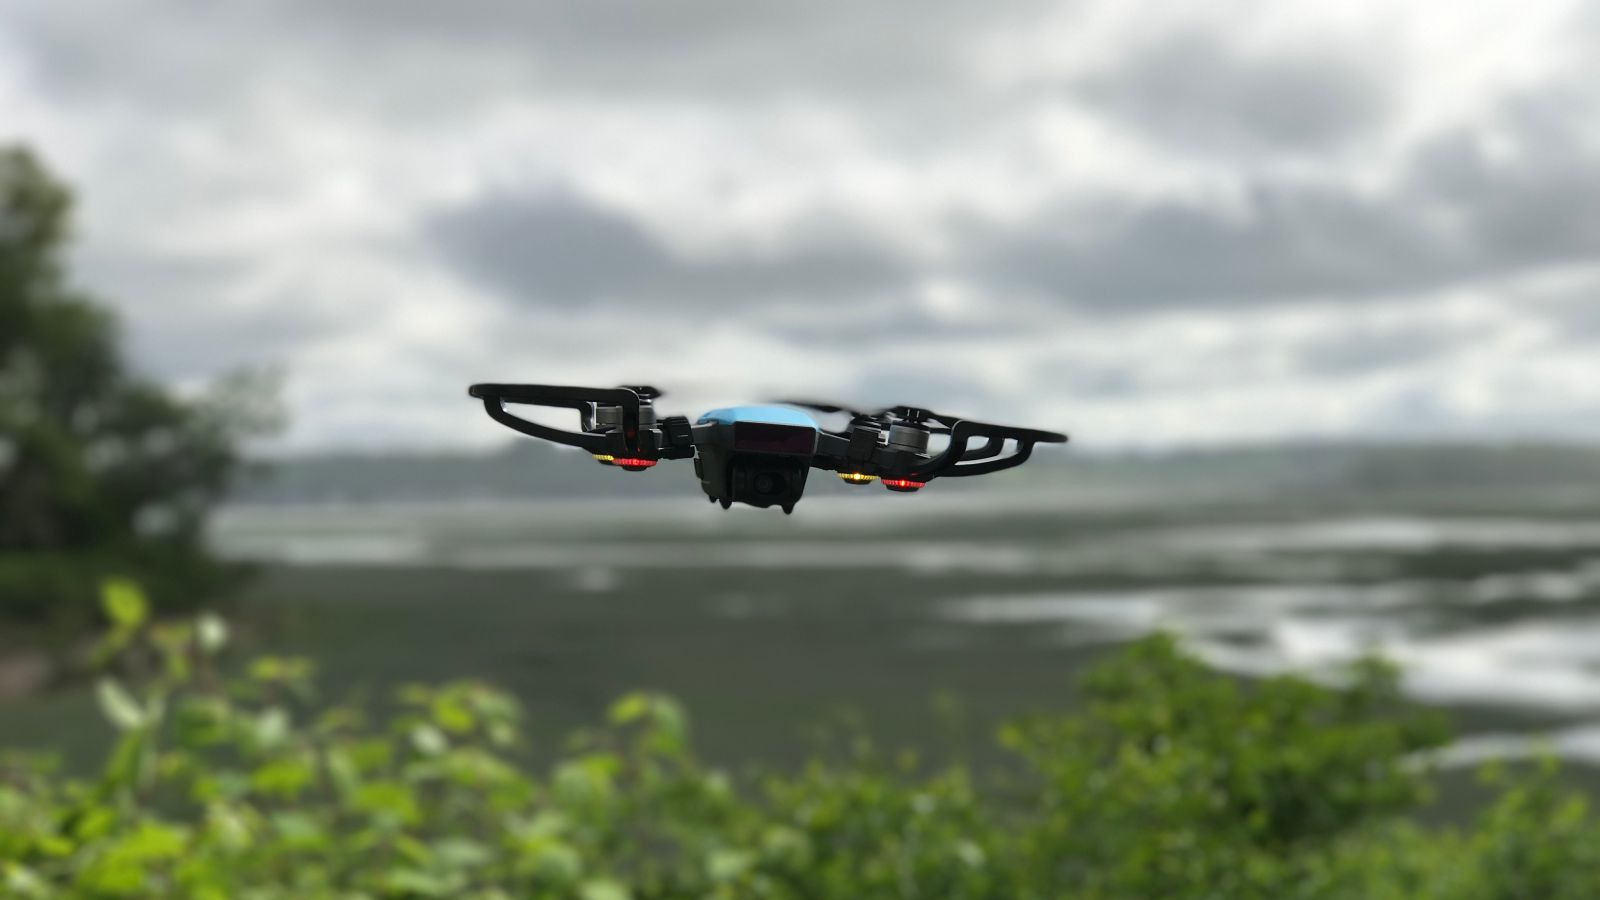drone: (464, 369, 1073, 525)
